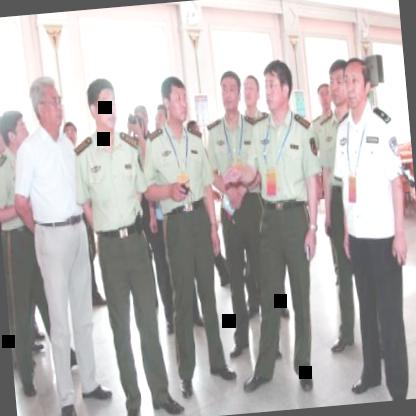head: (25, 70, 66, 136), (84, 72, 122, 136), (260, 57, 298, 117), (158, 70, 194, 130), (338, 56, 370, 115), (0, 102, 33, 155), (329, 54, 357, 110), (218, 66, 245, 118), (126, 98, 151, 152), (240, 73, 263, 115), (154, 101, 172, 141), (316, 80, 334, 115), (61, 120, 80, 149), (0, 111, 6, 160)
